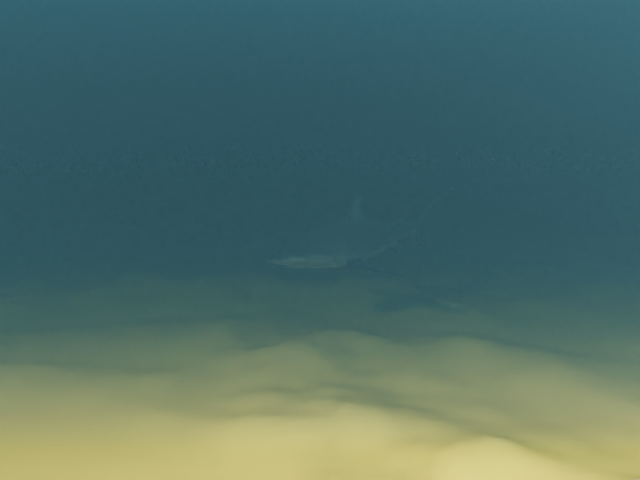Carribean Shark.001: (266, 186, 453, 276)
